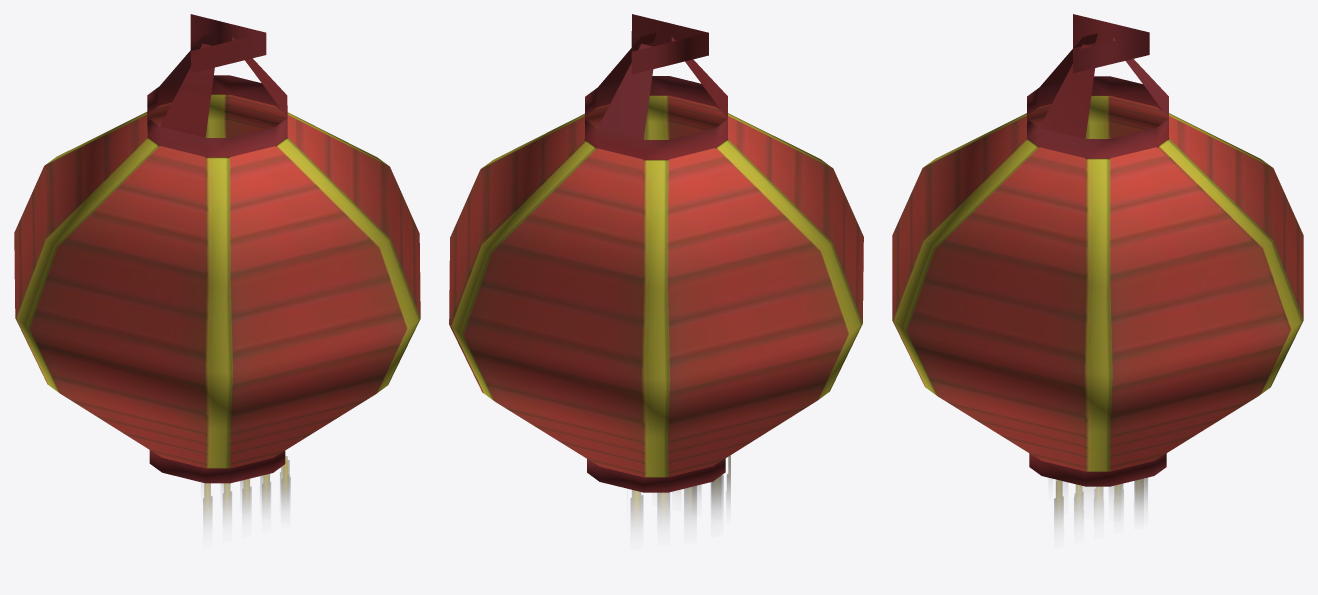
The model's file is lamp04.glb.
The picture shows the model from 3 angles, left to right: view 1: azimuth 30°, elevation 25°; view 2: azimuth 150°, elevation 25°; view 3: azimuth 270°, elevation 25°; orthographic projection. The views are drawn at different scales.
Visible parts, largest first — view 1: Lamp04; view 2: Lamp04; view 3: Lamp04.
Boxes of the visible parts, x1,y1,x2,y2 form: Lamp04: (14,14,420,527); Lamp04: (449,14,863,529); Lamp04: (892,14,1303,527).
Bounding box in the file's own units: 1.4 × 1.78 × 1.27.
Materials: 2 (2 with a texture image).
